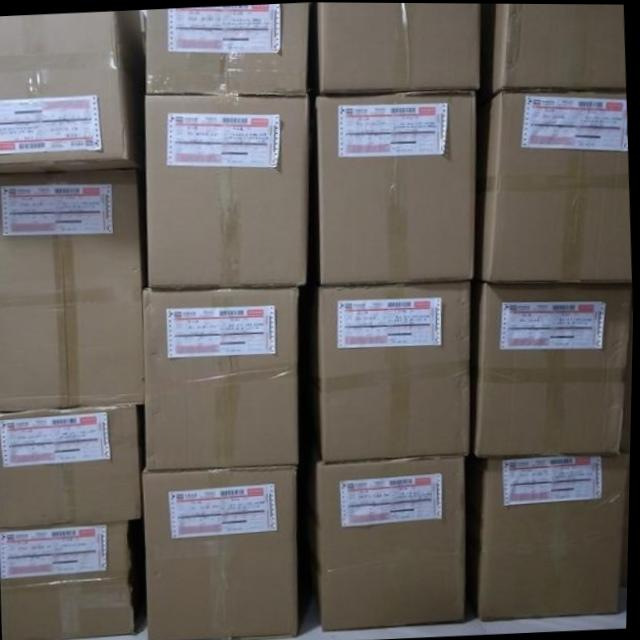box: (0, 169, 150, 411), (147, 90, 322, 289), (300, 276, 472, 464), (316, 88, 475, 285), (474, 87, 632, 281), (144, 464, 317, 640), (144, 284, 306, 470), (471, 278, 632, 457), (467, 451, 632, 619), (317, 456, 466, 629), (0, 11, 147, 173), (0, 404, 149, 529), (2, 517, 150, 640), (147, 3, 320, 94), (316, 2, 480, 94), (474, 3, 625, 101)
